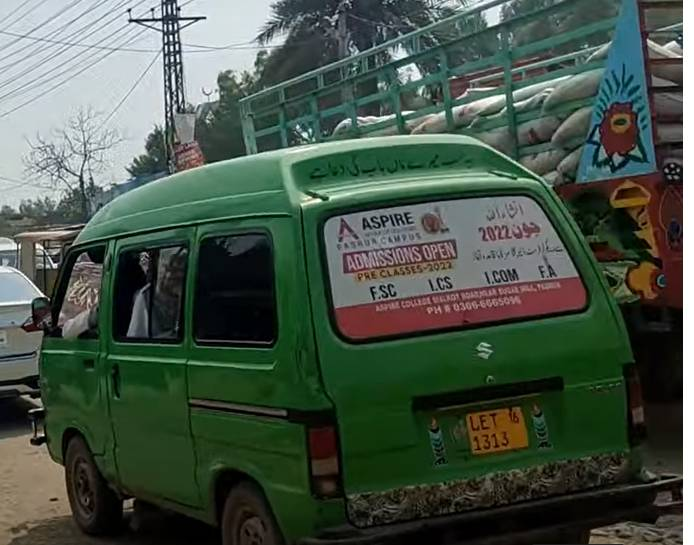number_plate: (445, 406, 544, 457)
